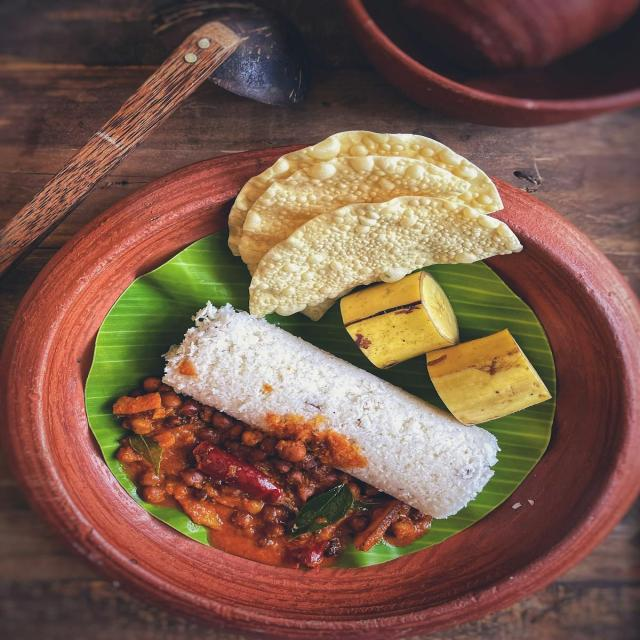BANANA: (336, 270, 558, 428)
KURMA: (116, 381, 431, 561)
PAPADAM: (233, 137, 523, 312)
PUTTU: (169, 306, 498, 512)
